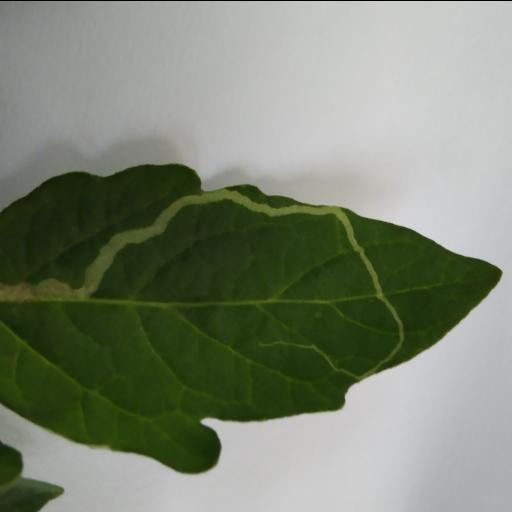Leaf Miner: (0, 159, 502, 479)
